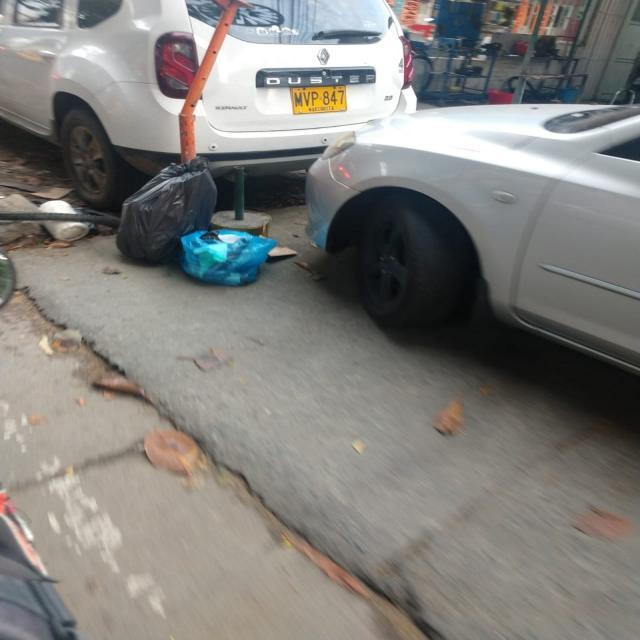Trashbag: (114, 156, 218, 278)
